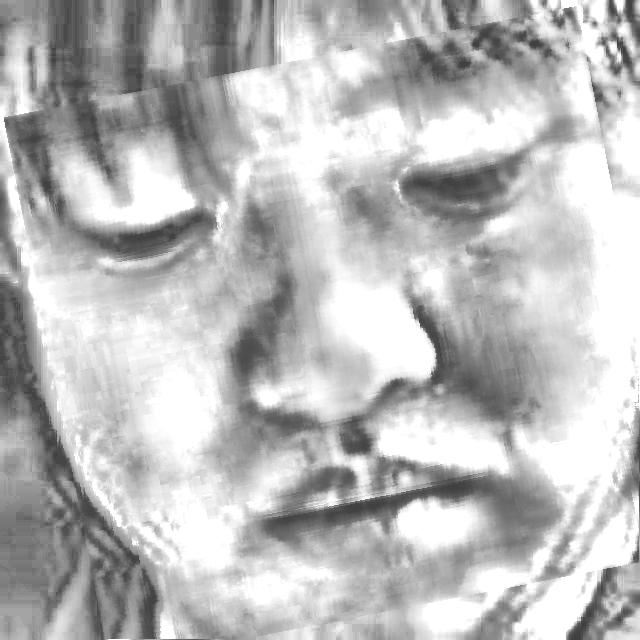angry: (28, 31, 640, 640)
